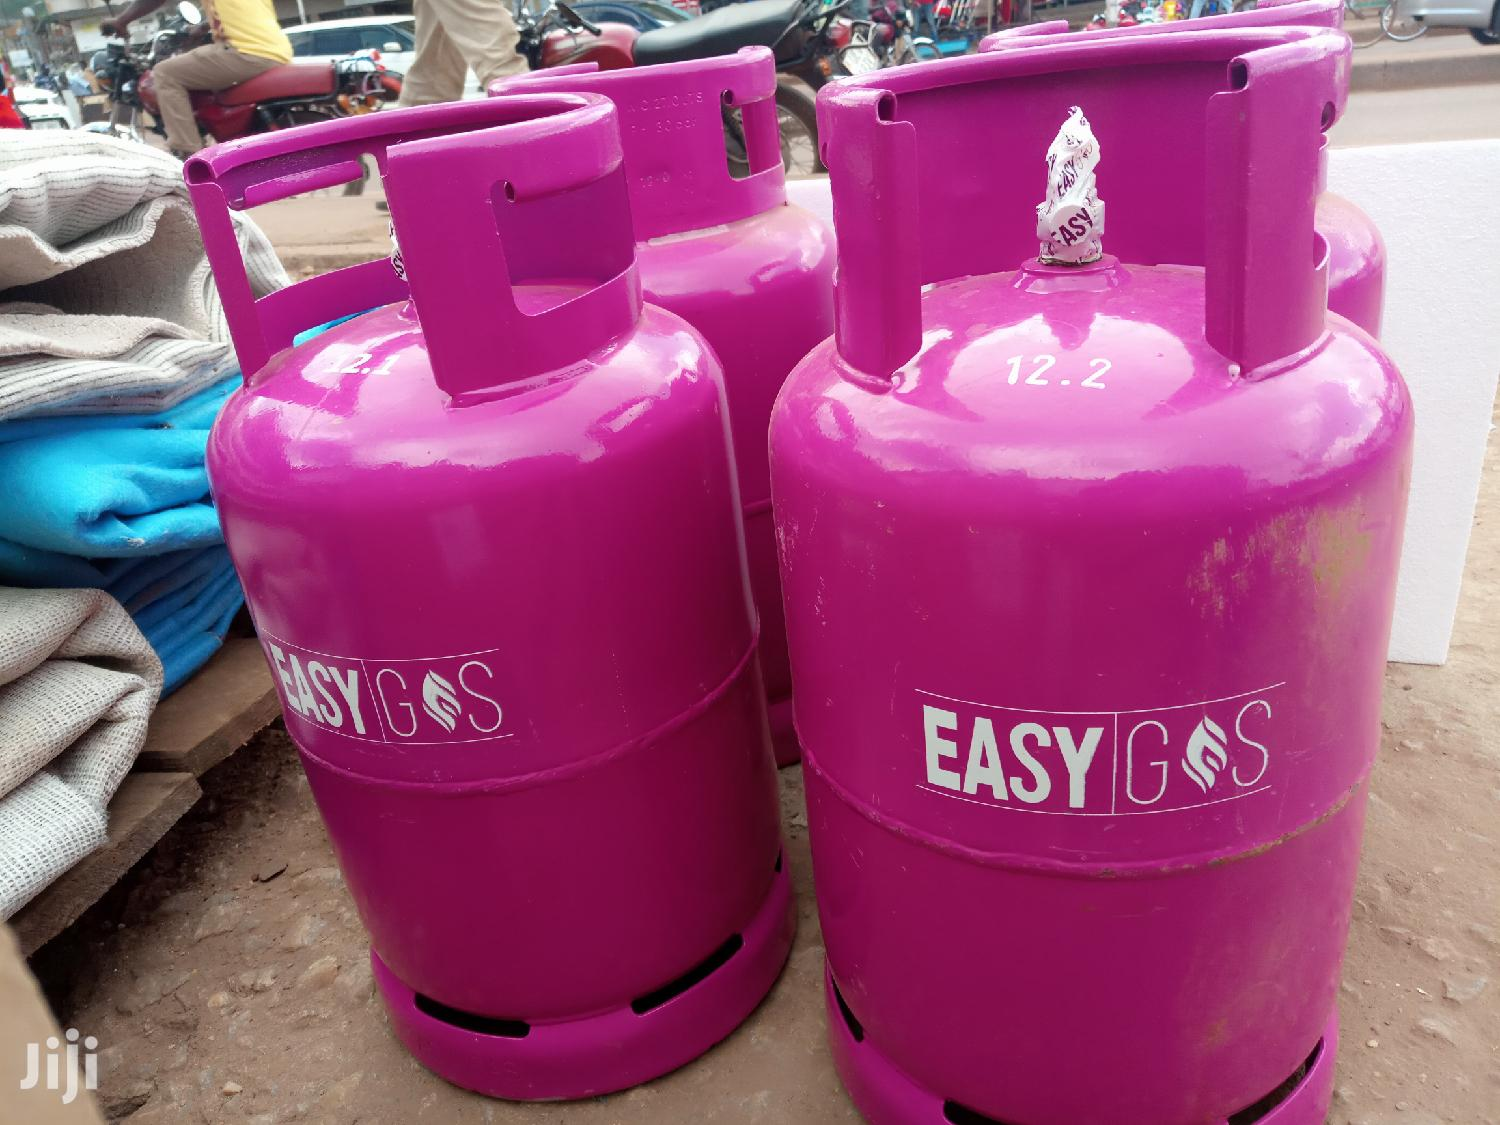bright_gas: (770, 44, 1417, 1125), (180, 95, 806, 1107), (488, 57, 839, 773)
